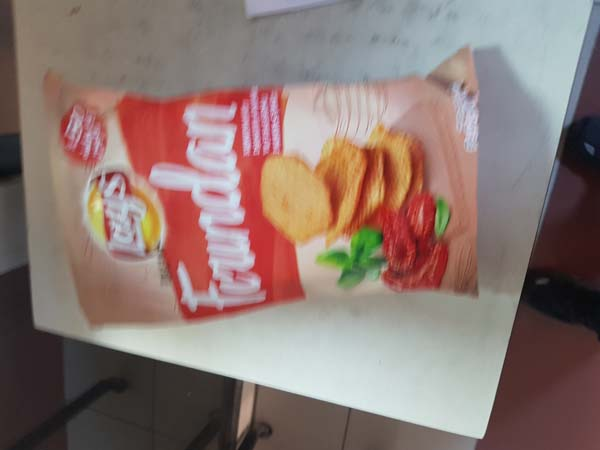laysfirindan: (44, 69, 494, 326)
